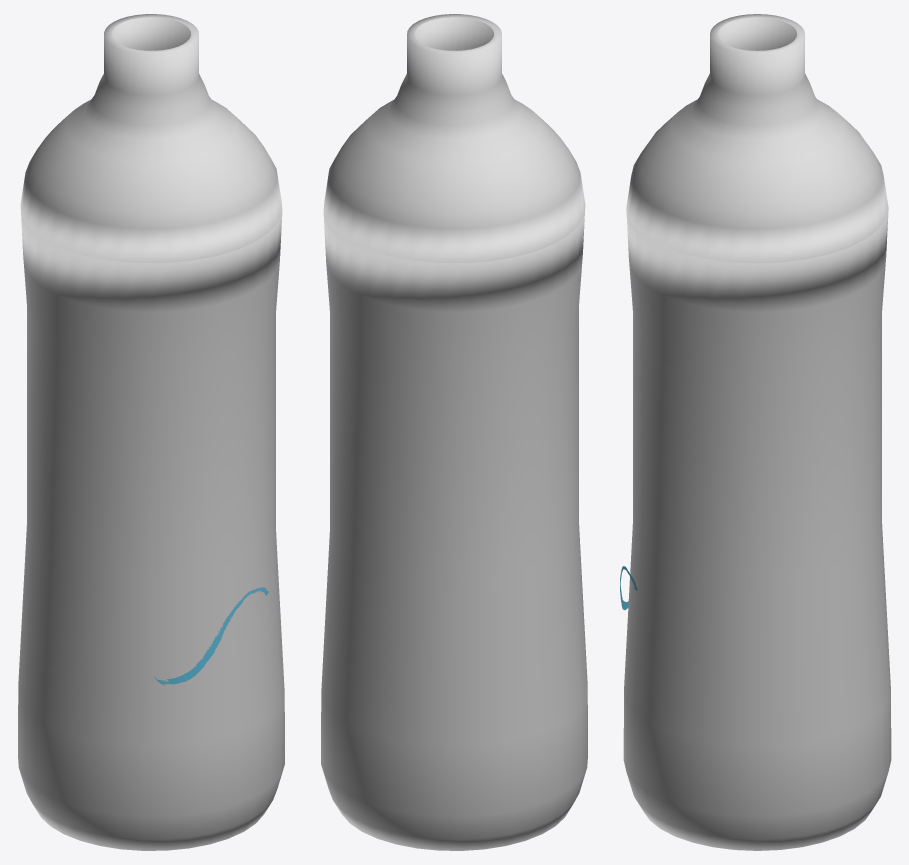
Rendered from GlassBottle3.glb.
The picture shows the model from 3 angles, left to right: view 1: azimuth 30°, elevation 25°; view 2: azimuth 150°, elevation 25°; view 3: azimuth 270°, elevation 25°; orthographic projection.
Parts seen in each view (by area): view 1: Circle, Cylinder; view 2: Circle; view 3: Circle.
Part boxes in pixels (left/top/right/bottom): Circle: left=18, top=14, right=284, bottom=850; Cylinder: left=154, top=587, right=268, bottom=685; Circle: left=321, top=14, right=587, bottom=850; Circle: left=623, top=14, right=891, bottom=850.
Size of the model in its own units: 0.9439 by 2.91 by 0.9439.
1 material, 1 textured.
